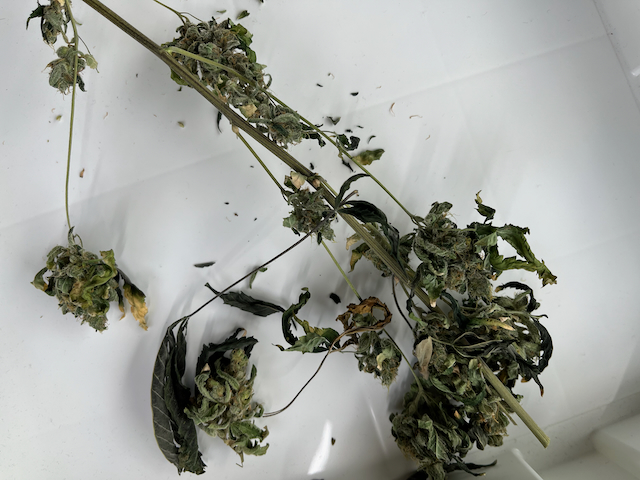Bud: (171, 14, 259, 106), (200, 350, 260, 449), (48, 249, 116, 332), (434, 223, 489, 295), (243, 100, 319, 143), (285, 189, 335, 240), (49, 48, 84, 88), (36, 5, 69, 46)
Leaf: (143, 319, 206, 479), (493, 212, 567, 289), (278, 282, 326, 371), (201, 272, 286, 322), (342, 197, 401, 239), (414, 410, 455, 466), (121, 258, 149, 334), (492, 252, 549, 279)
Leaf-Attachment: (465, 181, 499, 225), (341, 321, 359, 340), (447, 333, 462, 354)
Stem: (473, 352, 568, 449), (82, 1, 176, 68), (230, 128, 287, 195), (155, 52, 207, 116), (64, 79, 80, 247), (319, 244, 367, 300), (264, 371, 320, 418), (255, 236, 313, 272), (372, 173, 416, 212), (389, 277, 416, 340), (394, 343, 427, 394), (317, 120, 351, 167), (287, 147, 324, 190), (346, 212, 371, 253), (352, 155, 385, 183)
